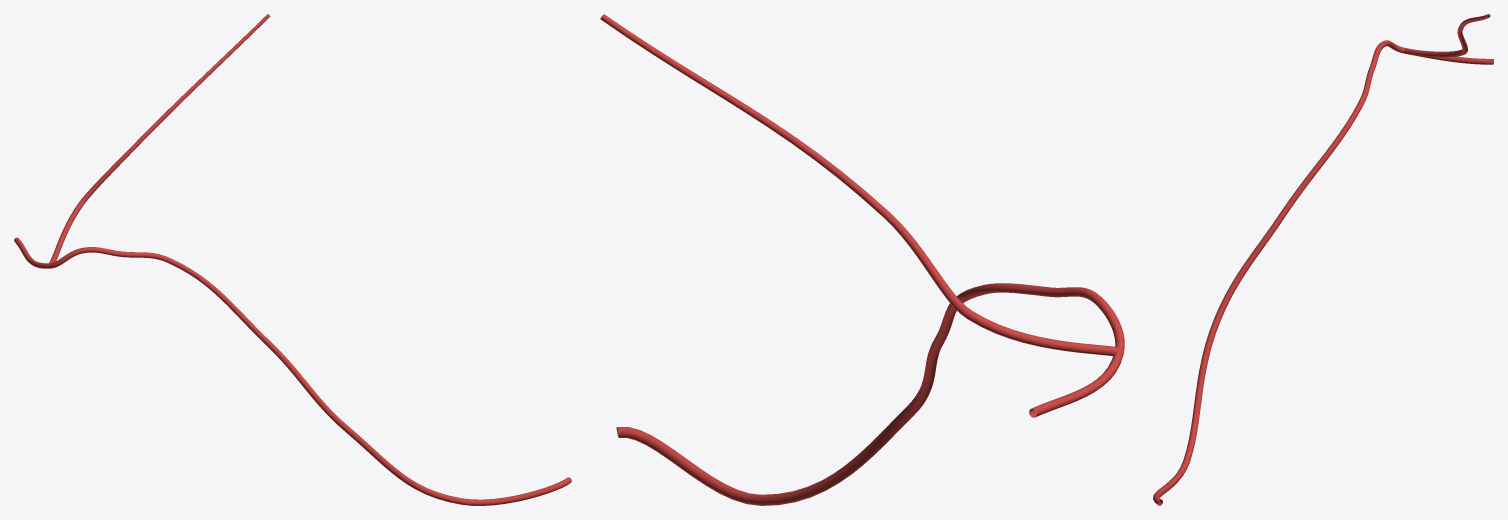
The picture shows the model from 3 angles, left to right: view 1: azimuth 30°, elevation 25°; view 2: azimuth 150°, elevation 25°; view 3: azimuth 270°, elevation 25°; orthographic projection. The views are drawn at different scales.
Visible parts, largest first — view 1: 右侧肩胛上动脉; view 2: 右侧肩胛上动脉; view 3: 右侧肩胛上动脉.
Boxes of the visible parts, x1,y1,x2,y2 form: 右侧肩胛上动脉: (14,14,571,505); 右侧肩胛上动脉: (600,14,1124,505); 右侧肩胛上动脉: (1153,14,1493,505).
Bounding box in the file's own units: 0.1513 × 0.1416 × 0.1024.
